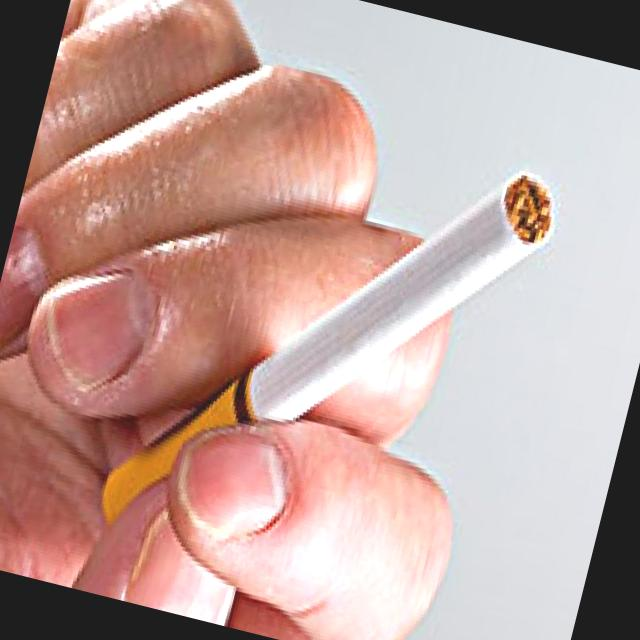smoke: (252, 114, 573, 480)
